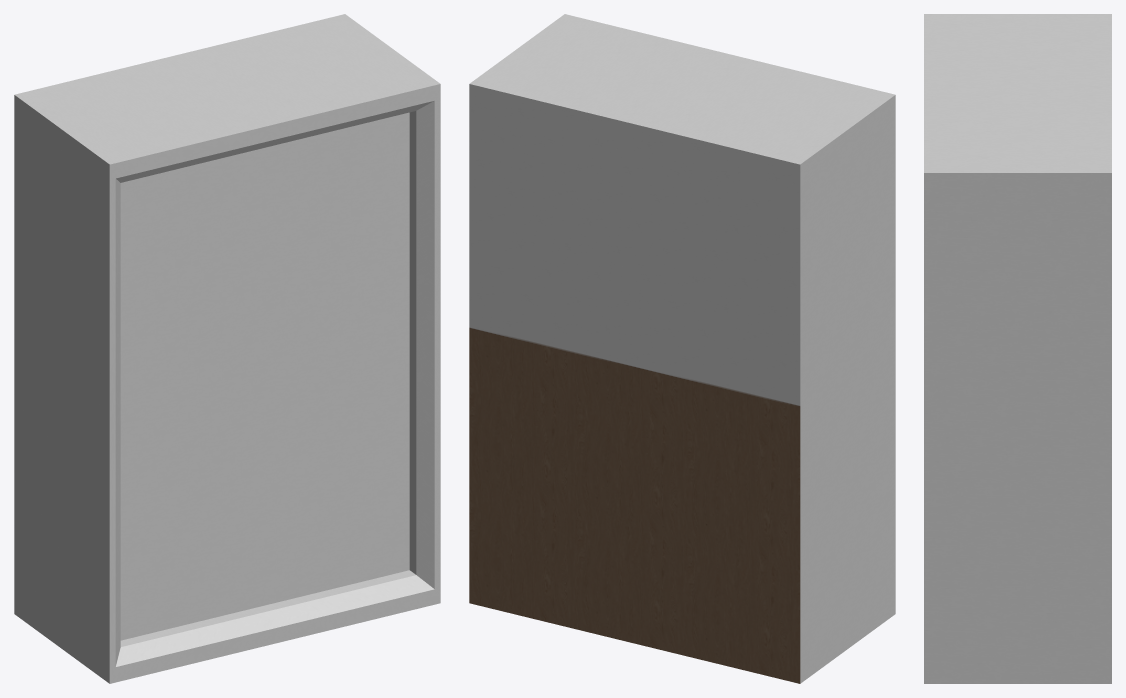
File: Props_LargeSpeakers.fbx
The picture shows the model from 3 angles, left to right: view 1: azimuth 30°, elevation 25°; view 2: azimuth 150°, elevation 25°; view 3: azimuth 270°, elevation 25°; orthographic projection.
Parts seen in each view (by area): view 1: Props_SpeakerLarge; view 2: Props_SpeakerLarge; view 3: Props_SpeakerLarge.
Boxes of the visible parts, box(x1,y1,x2,y2) form: Props_SpeakerLarge: box(14, 14, 440, 683); Props_SpeakerLarge: box(469, 14, 895, 683); Props_SpeakerLarge: box(924, 14, 1111, 683).
Size of the model in its own units: 100 by 150 by 50.
